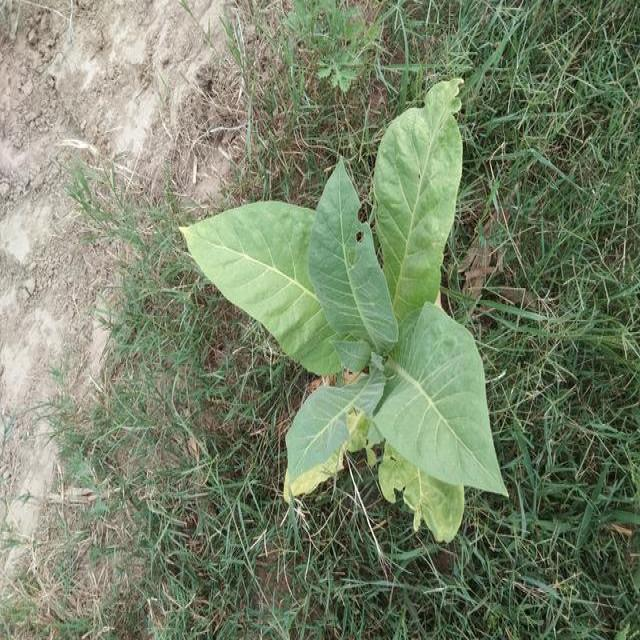crop: (181, 64, 523, 562)
